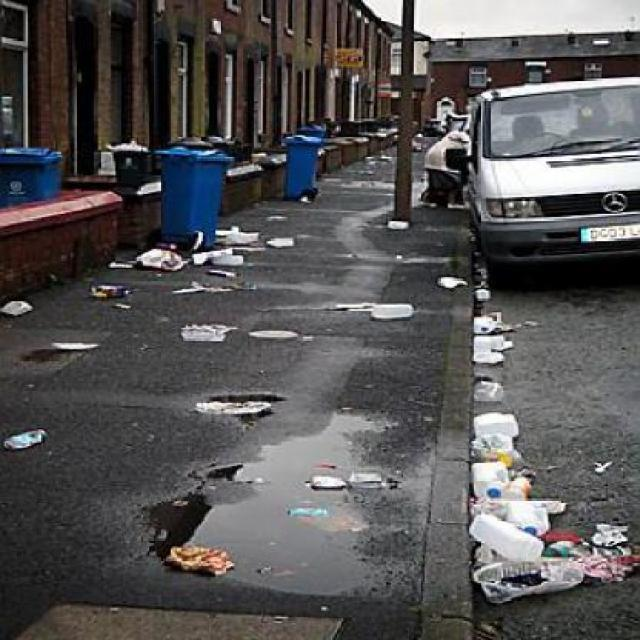garbage: (474, 306, 551, 597), (109, 243, 260, 282), (562, 522, 639, 592), (160, 529, 268, 574), (311, 461, 396, 486), (199, 399, 278, 422), (246, 317, 317, 342), (111, 138, 150, 183), (50, 336, 116, 359), (2, 426, 54, 452), (183, 325, 234, 348), (360, 302, 412, 322), (211, 223, 262, 238), (434, 272, 470, 290), (0, 296, 28, 319), (263, 226, 296, 244), (379, 213, 406, 233), (291, 186, 321, 202)
